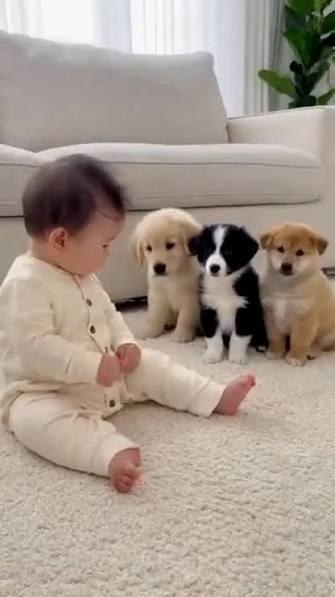non-dog: (1, 151, 262, 497)
puppy-dog: (188, 222, 269, 369), (259, 220, 335, 368), (127, 207, 202, 345)
